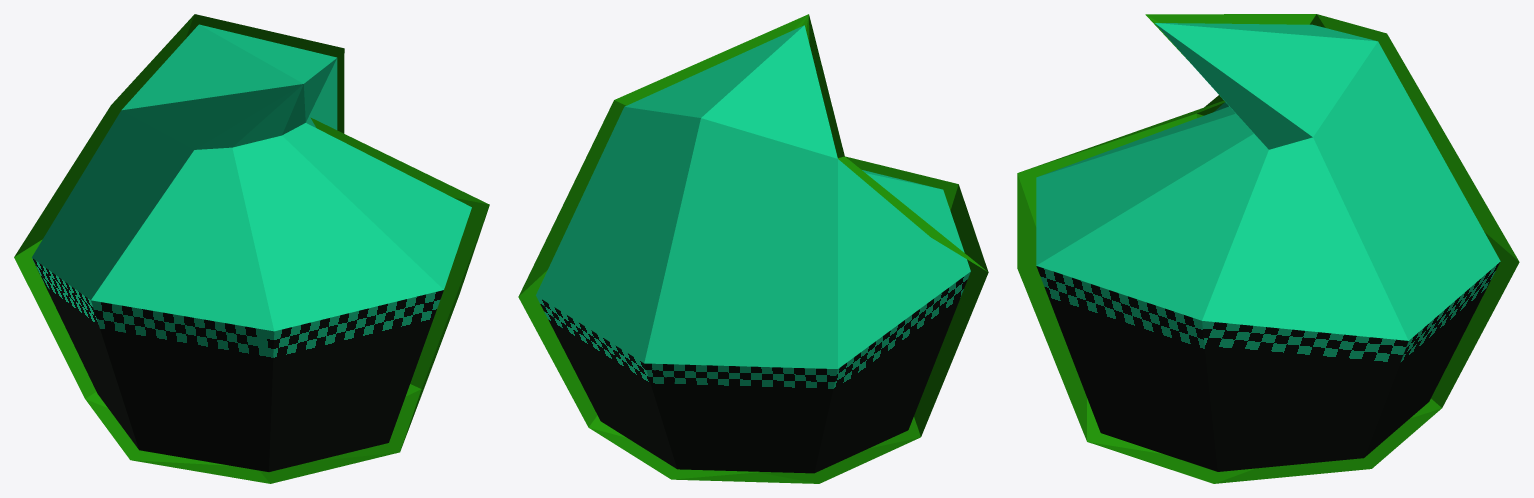
The model's file is Soul_1.gltf.
3 views of the same model, side by side, from view 1: azimuth 30°, elevation 25°; view 2: azimuth 150°, elevation 25°; view 3: azimuth 270°, elevation 25° (orthographic). The views are drawn at different scales.
Visible parts, largest first — view 1: Wisp, Wisp_outline; view 2: Wisp, Wisp_outline; view 3: Wisp, Wisp_outline.
Boxes of the visible parts, left/top/right/bottom form: Wisp: left=32, top=24, right=471, bottom=471; Wisp_outline: left=14, top=14, right=489, bottom=483; Wisp: left=536, top=25, right=970, bottom=473; Wisp_outline: left=518, top=14, right=988, bottom=483; Wisp: left=1036, top=23, right=1500, bottom=471; Wisp_outline: left=1017, top=14, right=1519, bottom=483.
Size of the model in its own units: 0.3353 by 0.3312 by 0.3319.
2 materials, 2 textured.
